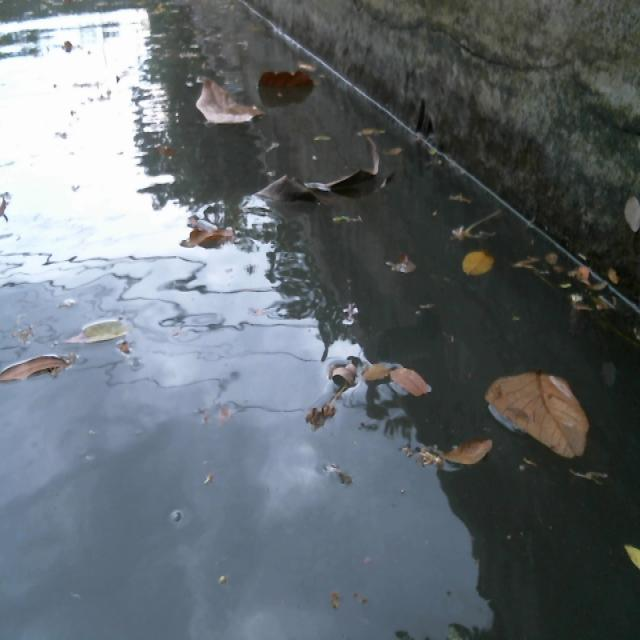Big-leaf: (486, 366, 614, 478), (257, 130, 401, 219), (193, 80, 262, 131), (182, 205, 245, 258), (263, 68, 315, 101)
Small-leaf: (400, 437, 502, 484), (369, 360, 450, 411), (62, 306, 135, 358), (0, 348, 70, 402), (459, 251, 510, 296), (384, 244, 425, 282), (444, 176, 482, 211), (539, 242, 571, 277), (620, 539, 640, 582), (430, 146, 457, 175), (312, 126, 342, 152), (605, 259, 620, 289), (584, 263, 594, 285)
